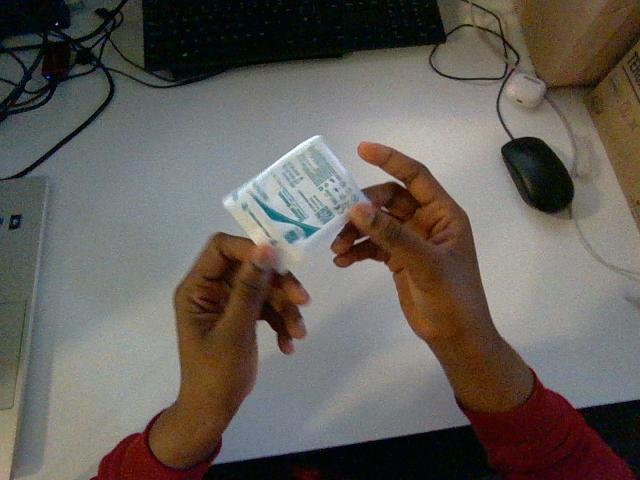gauze: (223, 136, 368, 270)
